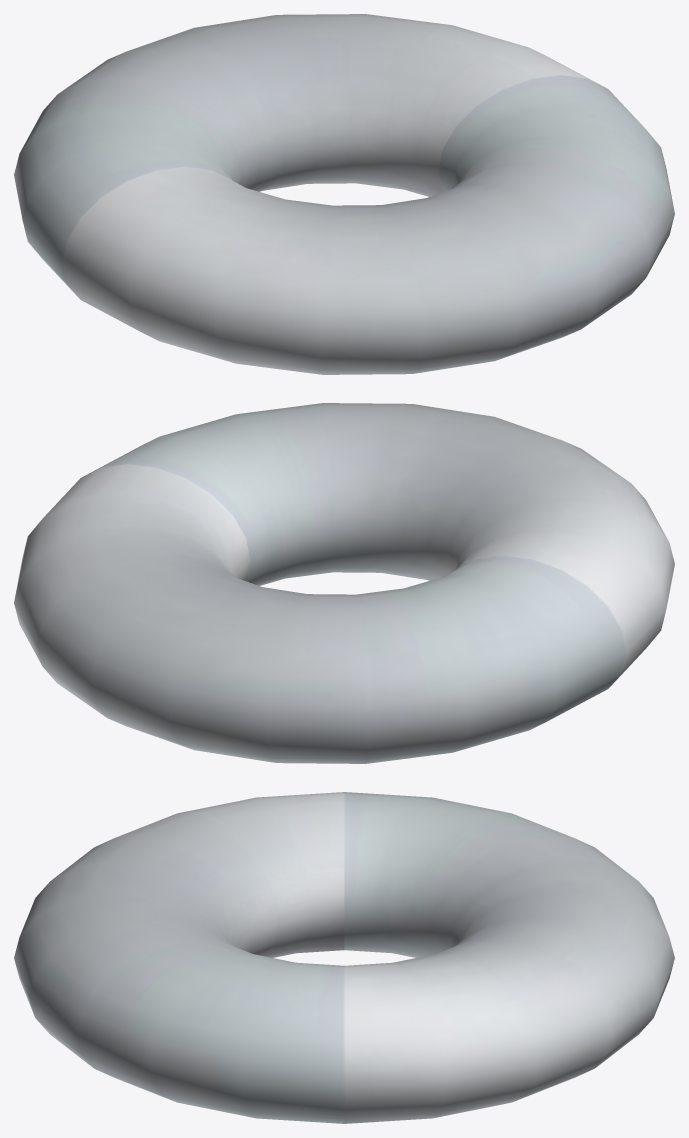
File: Light1.obj
3 views of the same model, one above another, from view 1: azimuth 30°, elevation 25°; view 2: azimuth 150°, elevation 25°; view 3: azimuth 270°, elevation 25° (orthographic). The views are drawn at different scales.
Parts seen in each view (by area): view 1: pTorus1; view 2: pTorus1; view 3: pTorus1.
Boxes of the visible parts, x1,y1,x2,y2 form: pTorus1: (14, 14, 674, 374); pTorus1: (14, 403, 674, 763); pTorus1: (14, 792, 674, 1123).
Bounding box in the file's own units: 4.22 × 1 × 4.52.
1 material, 1 textured.
